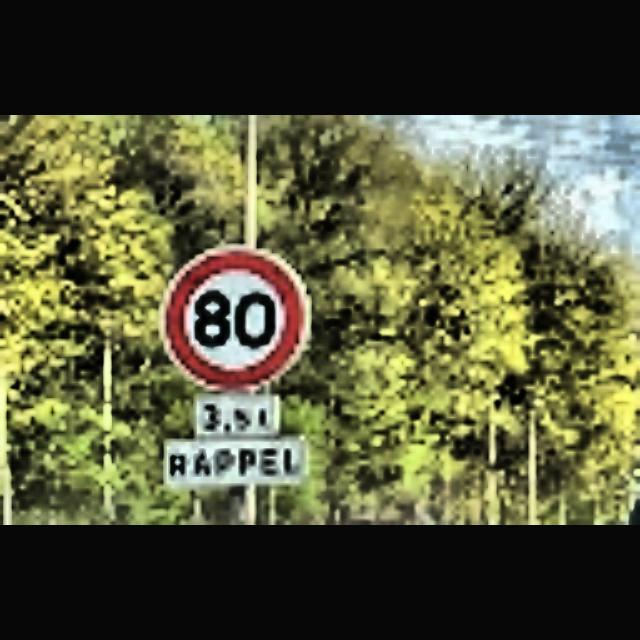speed_80: (158, 242, 312, 396)
